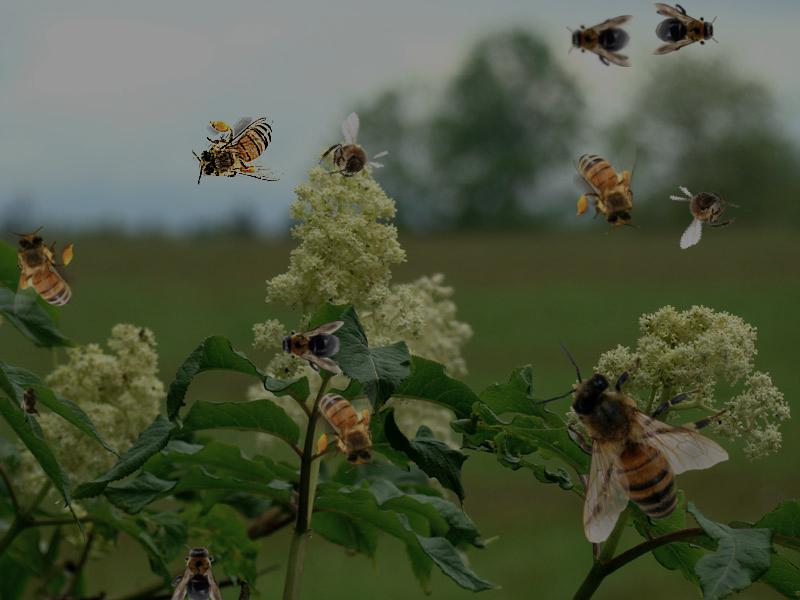Bee: (530, 340, 729, 544), (306, 110, 399, 204), (659, 167, 748, 251), (192, 117, 285, 185), (313, 380, 381, 473), (9, 226, 77, 319), (573, 141, 641, 234), (651, 3, 719, 55), (276, 321, 344, 373), (566, 15, 634, 67), (171, 542, 223, 600), (20, 381, 42, 421)
